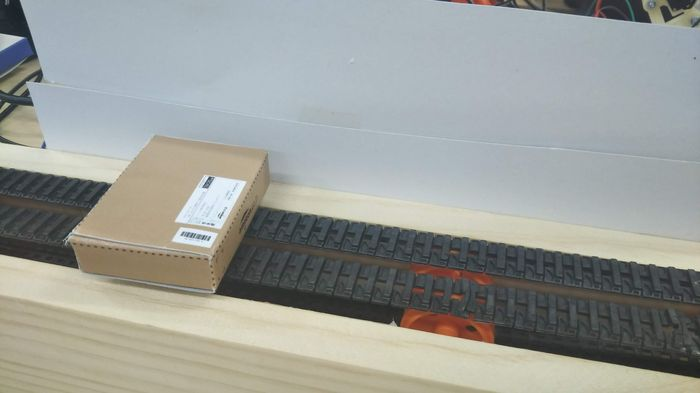box2: (63, 129, 273, 295)
